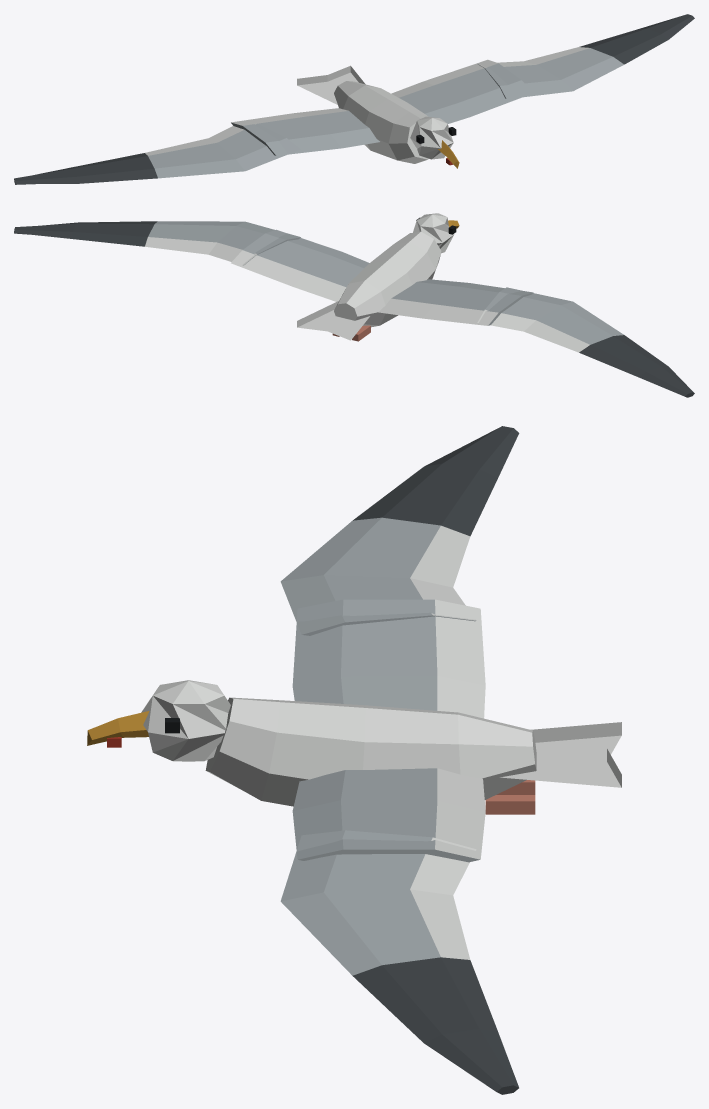
File: gull.glb
The picture shows the model from 3 angles, top to bottom: view 1: azimuth 30°, elevation 25°; view 2: azimuth 150°, elevation 25°; view 3: azimuth 270°, elevation 25°; orthographic projection. The views are drawn at different scales.
Parts seen in each view (by area): view 1: gull_hand_R, gull_body, gull_hand_L, gull_arm_L, gull_arm_R; view 2: gull_body, gull_hand_R, gull_hand_L, gull_arm_L, gull_arm_R; view 3: gull_body, gull_hand_L, gull_hand_R, gull_arm_R, gull_arm_L.
Boxes of the visible parts, x1,y1,x2,y2 form: gull_hand_R: (14,121,300,184); gull_body: (297,65,459,168); gull_hand_L: (477,14,694,98); gull_arm_L: (391,59,533,123); gull_arm_R: (231,108,379,155); gull_body: (297,213,459,341); gull_hand_R: (477,287,694,397); gull_hand_L: (14,221,300,265); gull_arm_L: (231,229,369,301); gull_arm_R: (378,279,533,325); gull_body: (87,680,621,814); gull_hand_L: (280,830,518,1094); gull_hand_R: (280,426,519,635); gull_arm_R: (292,599,485,718); gull_arm_L: (292,768,485,862).
Size of the model in its own units: 1.27 by 0.1199 by 0.432.
